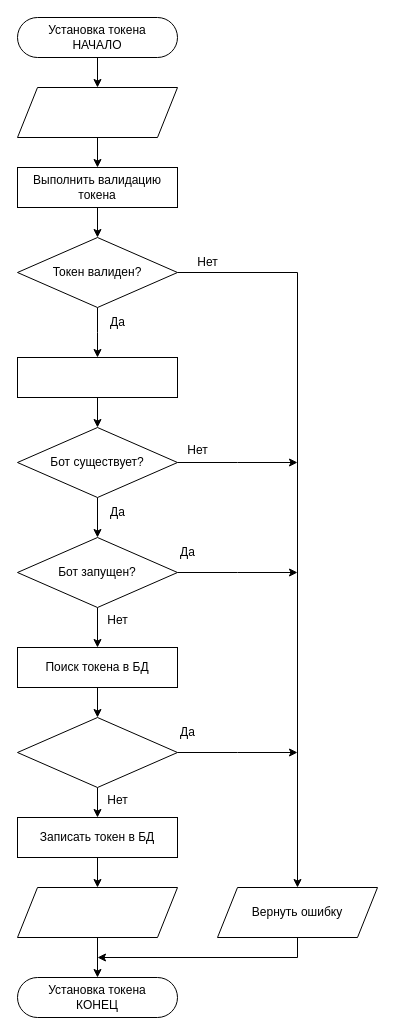
Some shapes in this 395 by 1035 pixel diagram are drawn without their labels. Here are the shapes that lost their labels. From the top down, the centre of each, then its label:
[97,112]: Получение id бота, токена
[97,377]: Поиск бота в БД
[97,752]: Токен существует?
[97,912]: Вернуть положительный результат
